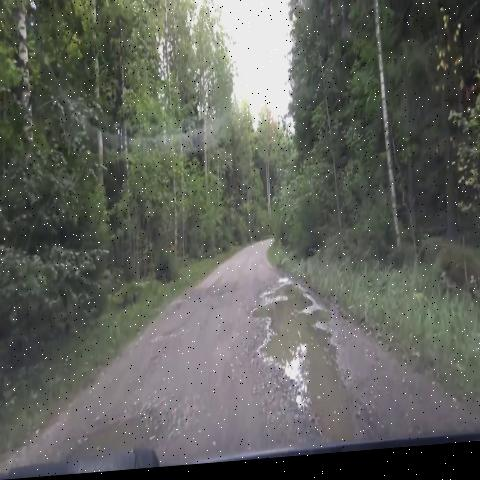pothole: (251, 270, 371, 451), (63, 385, 178, 473)
